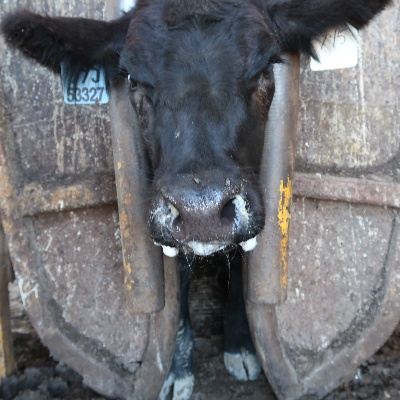fidget_spinner: (146, 181, 256, 255)
